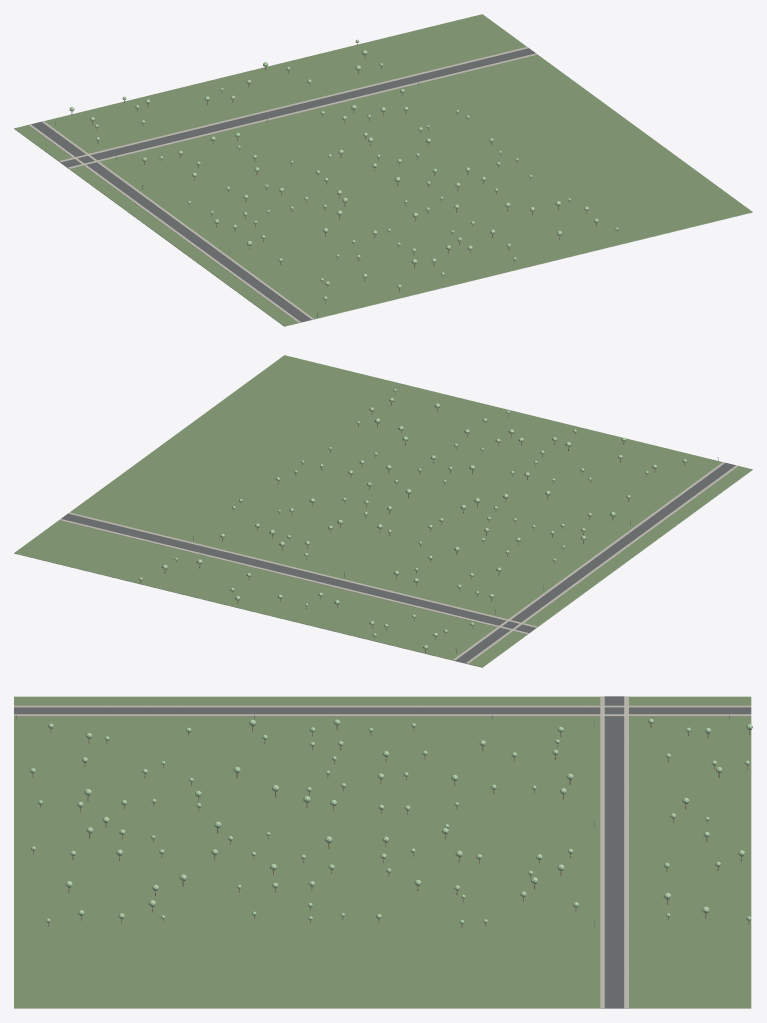
File: chunk_2_4_high.glb
The picture shows the model from 3 angles, top to bottom: view 1: azimuth 30°, elevation 25°; view 2: azimuth 150°, elevation 25°; view 3: azimuth 270°, elevation 25°; orthographic projection. The views are drawn at different scales.
Parts seen in each view (by area): view 1: city_forest_floor, city_world_asphalt, city_world_sidewalk, city_foliage, city_curb, city_grass, city_foliage_dark; view 2: city_forest_floor, city_world_asphalt, city_world_sidewalk, city_foliage, city_curb, city_grass, city_foliage_dark; view 3: city_forest_floor, city_world_asphalt, city_world_sidewalk, city_foliage, city_curb, city_foliage_dark, city_bark, city_grass.
Part boxes in pixels (<box>): city_forest_floor: <box>14,14,752,326</box>; city_world_asphalt: <box>31,48,535,322</box>; city_world_sidewalk: <box>28,47,537,322</box>; city_foliage: <box>70,39,618,300</box>; city_curb: <box>31,48,534,321</box>; city_grass: <box>14,129,752,326</box>; city_foliage_dark: <box>69,40,616,299</box>; city_forest_floor: <box>14,355,752,667</box>; city_world_asphalt: <box>61,463,735,663</box>; city_world_sidewalk: <box>59,462,738,663</box>; city_foliage: <box>139,389,686,649</box>; city_curb: <box>61,462,735,662</box>; city_grass: <box>14,470,752,667</box>; city_foliage_dark: <box>139,390,687,648</box>; city_forest_floor: <box>14,696,751,1008</box>; city_world_asphalt: <box>14,696,751,1008</box>; city_world_sidewalk: <box>14,696,751,1008</box>; city_foliage: <box>30,718,752,924</box>; city_curb: <box>14,696,750,1007</box>; city_foliage_dark: <box>31,720,751,923</box>; city_bark: <box>32,724,750,927</box>; city_grass: <box>14,1008,750,1008</box>.
Size of the model in its own units: 512 by 9.79 by 513.
